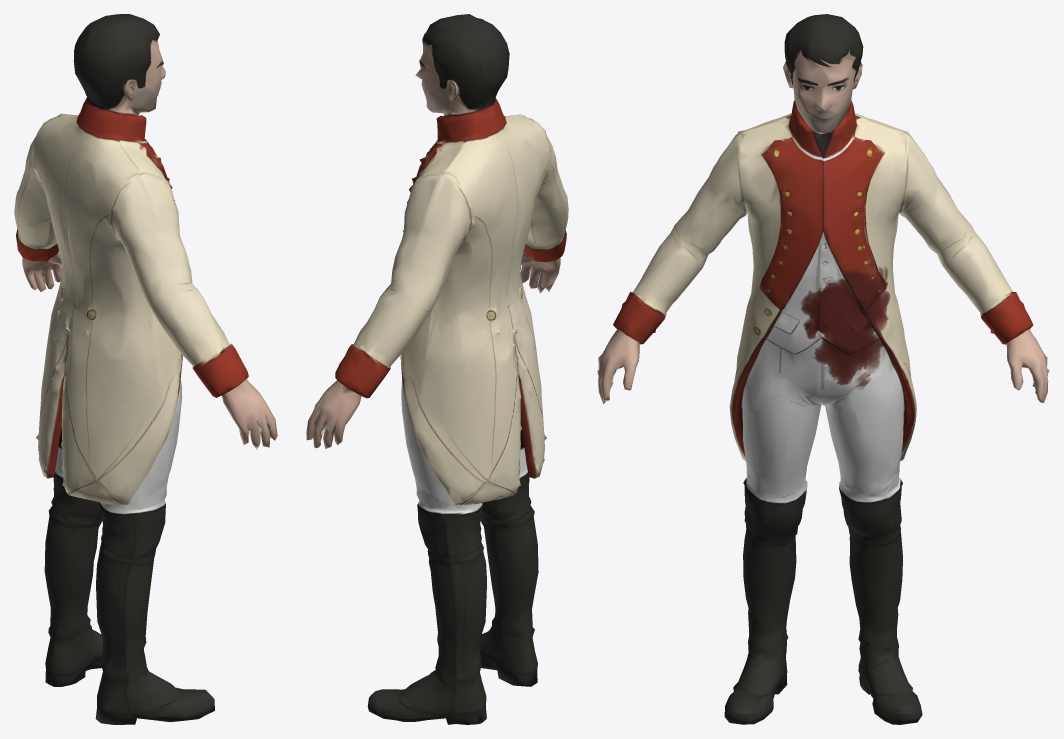
Rendered from f03f469a-fcce-4582-9960-fb54b48a1e2c_model_url.glb.
3 renders of one model, left to right at view 1: azimuth 30°, elevation 25°; view 2: azimuth 150°, elevation 25°; view 3: azimuth 270°, elevation 25°, orthographic.
Parts seen in each view (by area): view 1: tripo_node_f03f469a-fcce-4582-9960-fb54b48a1e2c; view 2: tripo_node_f03f469a-fcce-4582-9960-fb54b48a1e2c; view 3: tripo_node_f03f469a-fcce-4582-9960-fb54b48a1e2c.
Boxes of the visible parts, x1,y1,x2,y2 form: tripo_node_f03f469a-fcce-4582-9960-fb54b48a1e2c: (14,14,277,724); tripo_node_f03f469a-fcce-4582-9960-fb54b48a1e2c: (306,14,568,724); tripo_node_f03f469a-fcce-4582-9960-fb54b48a1e2c: (597,14,1049,724).
Size of the model in its own units: 0.1875 by 1 by 0.6008.
Materials: 1 (1 with a texture image).
